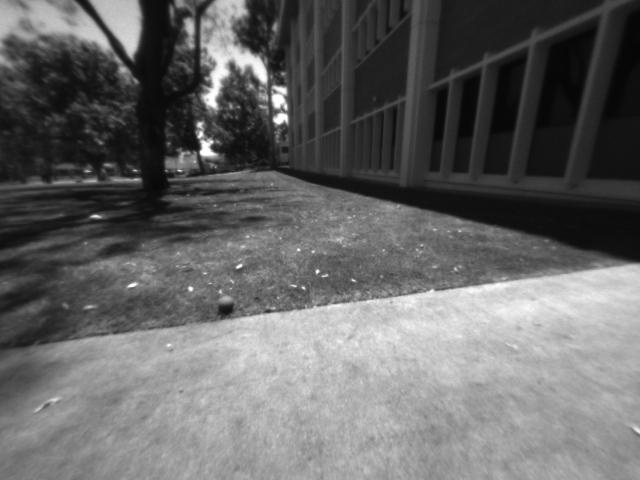dogtoy: (213, 288, 243, 321)
